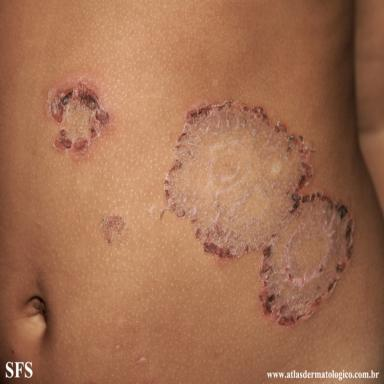Impetigo: (148, 97, 358, 330), (43, 73, 116, 163), (100, 211, 129, 247)
